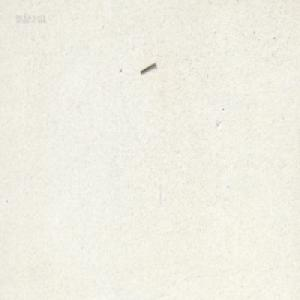Bolt: (140, 61, 156, 73)
